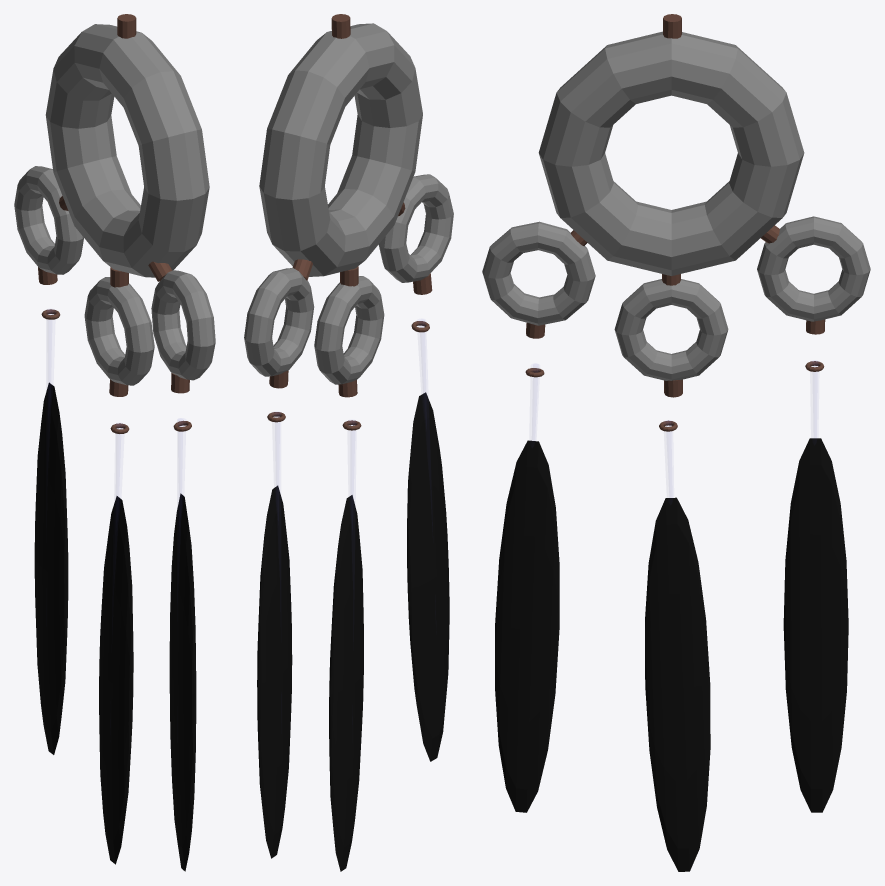
3 renders of one model, left to right at view 1: azimuth 30°, elevation 25°; view 2: azimuth 150°, elevation 25°; view 3: azimuth 270°, elevation 25°, orthographic.
Visible parts, largest first — view 1: node_MeshObject785802688-PolyPaper22; view 2: node_MeshObject785802688-PolyPaper22; view 3: node_MeshObject785802688-PolyPaper22.
Part boxes in pixels (x1,y1,x2,y2): node_MeshObject785802688-PolyPaper22: (14, 14, 215, 871); node_MeshObject785802688-PolyPaper22: (244, 14, 453, 871); node_MeshObject785802688-PolyPaper22: (482, 14, 870, 871).
Size of the model in its own units: 0.07 by 0.9976 by 0.4095.
